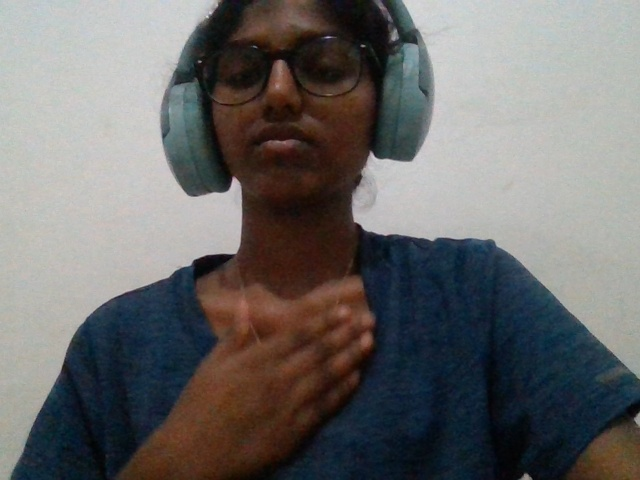Please: (122, 277, 396, 480)
